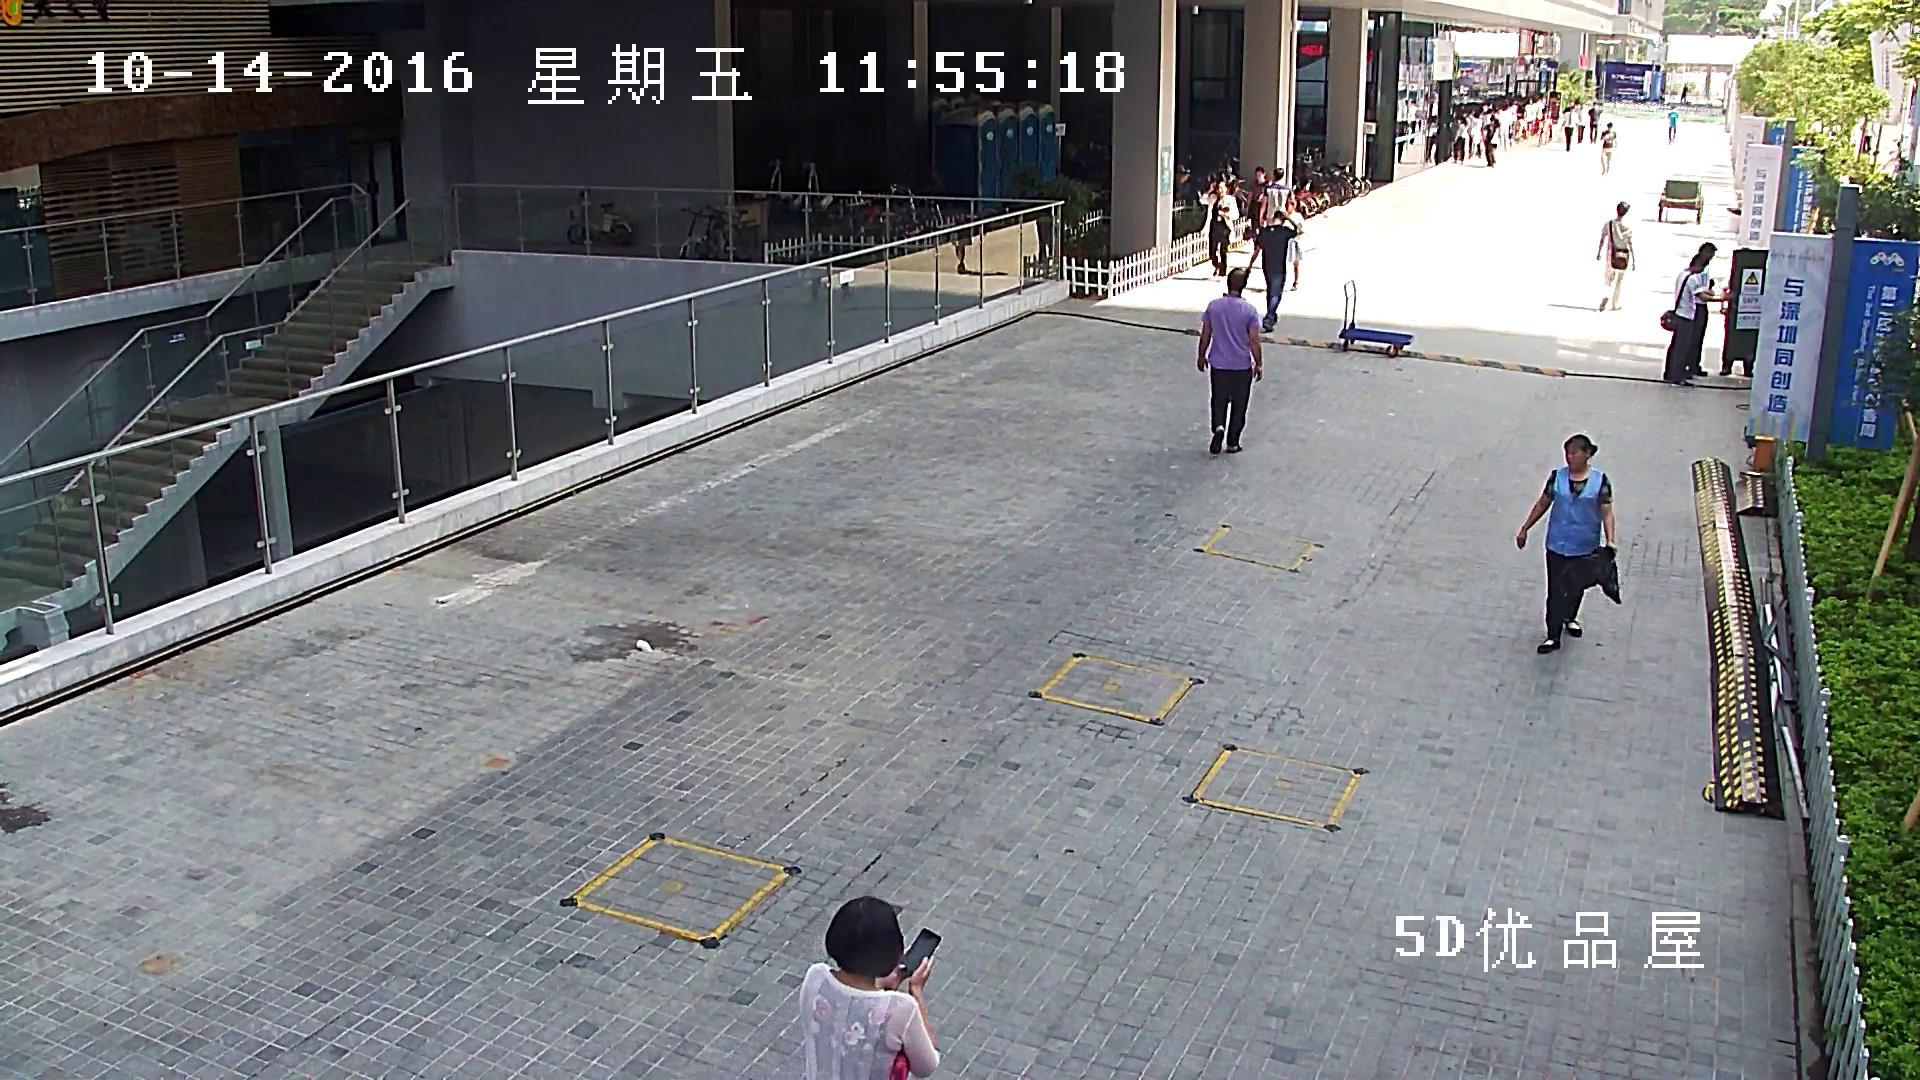person: (801, 897, 942, 1080), (1519, 435, 1621, 656), (1195, 269, 1261, 455), (1661, 257, 1732, 388), (1247, 210, 1299, 332), (1689, 243, 1715, 381), (1200, 181, 1238, 276), (1599, 203, 1633, 313), (1257, 168, 1292, 224), (1282, 201, 1303, 291), (1244, 166, 1270, 237), (1482, 115, 1499, 168), (1601, 123, 1615, 174), (1562, 106, 1575, 152), (1588, 102, 1600, 143), (1667, 104, 1678, 145), (1576, 104, 1587, 143)
